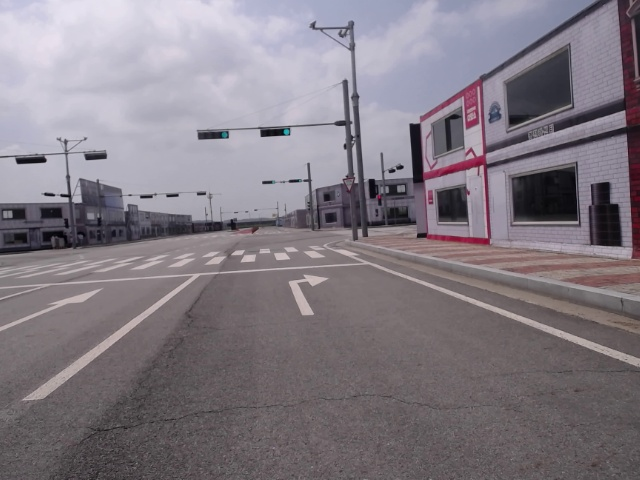straight_green_4: (198, 131, 230, 140), (259, 128, 292, 135), (261, 180, 275, 185), (288, 179, 303, 183)
